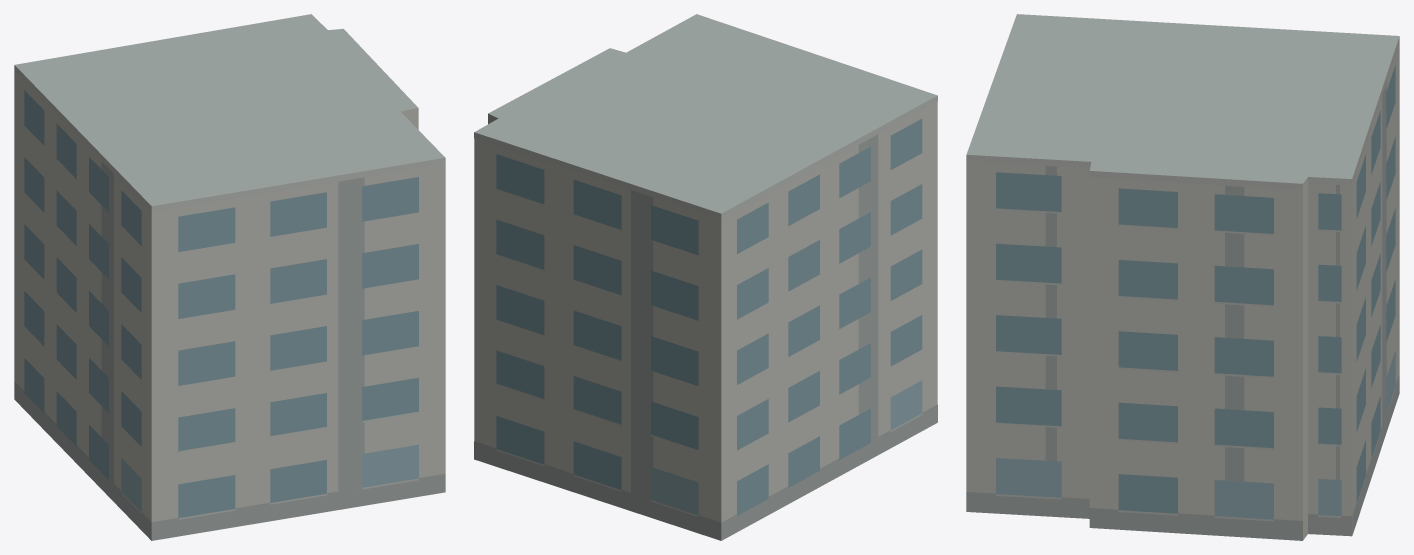
The model's file is survey-upis-32852621.glb.
3 views of the same model, side by side, from view 1: azimuth 30°, elevation 25°; view 2: azimuth 150°, elevation 25°; view 3: azimuth 270°, elevation 25° (orthographic). The views are drawn at different scales.
Visible parts, largest first — view 1: survey-upis-32852621.tmp; view 2: survey-upis-32852621.tmp; view 3: survey-upis-32852621.tmp.
Part boxes in pixels (x1,y1,x2,y2): survey-upis-32852621.tmp: (14,14,445,540); survey-upis-32852621.tmp: (474,14,937,540); survey-upis-32852621.tmp: (966,14,1399,540).
Bounding box in the file's own units: 13.26 × 13 × 14.3.
